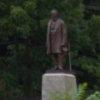Statue: (38, 7, 74, 68)
